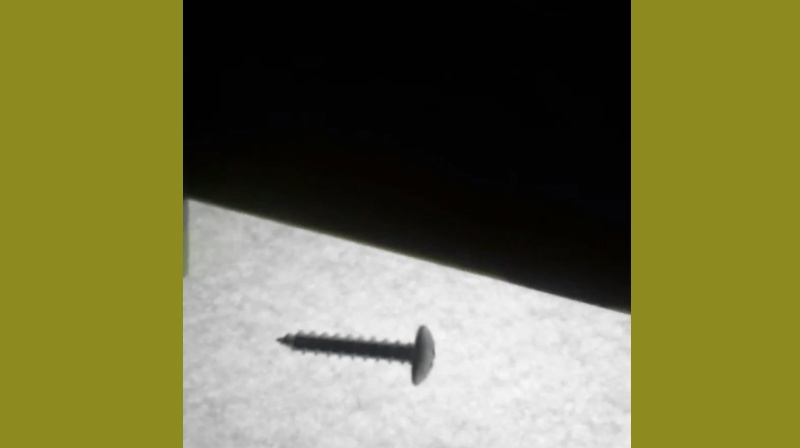S003: (271, 321, 437, 389)
